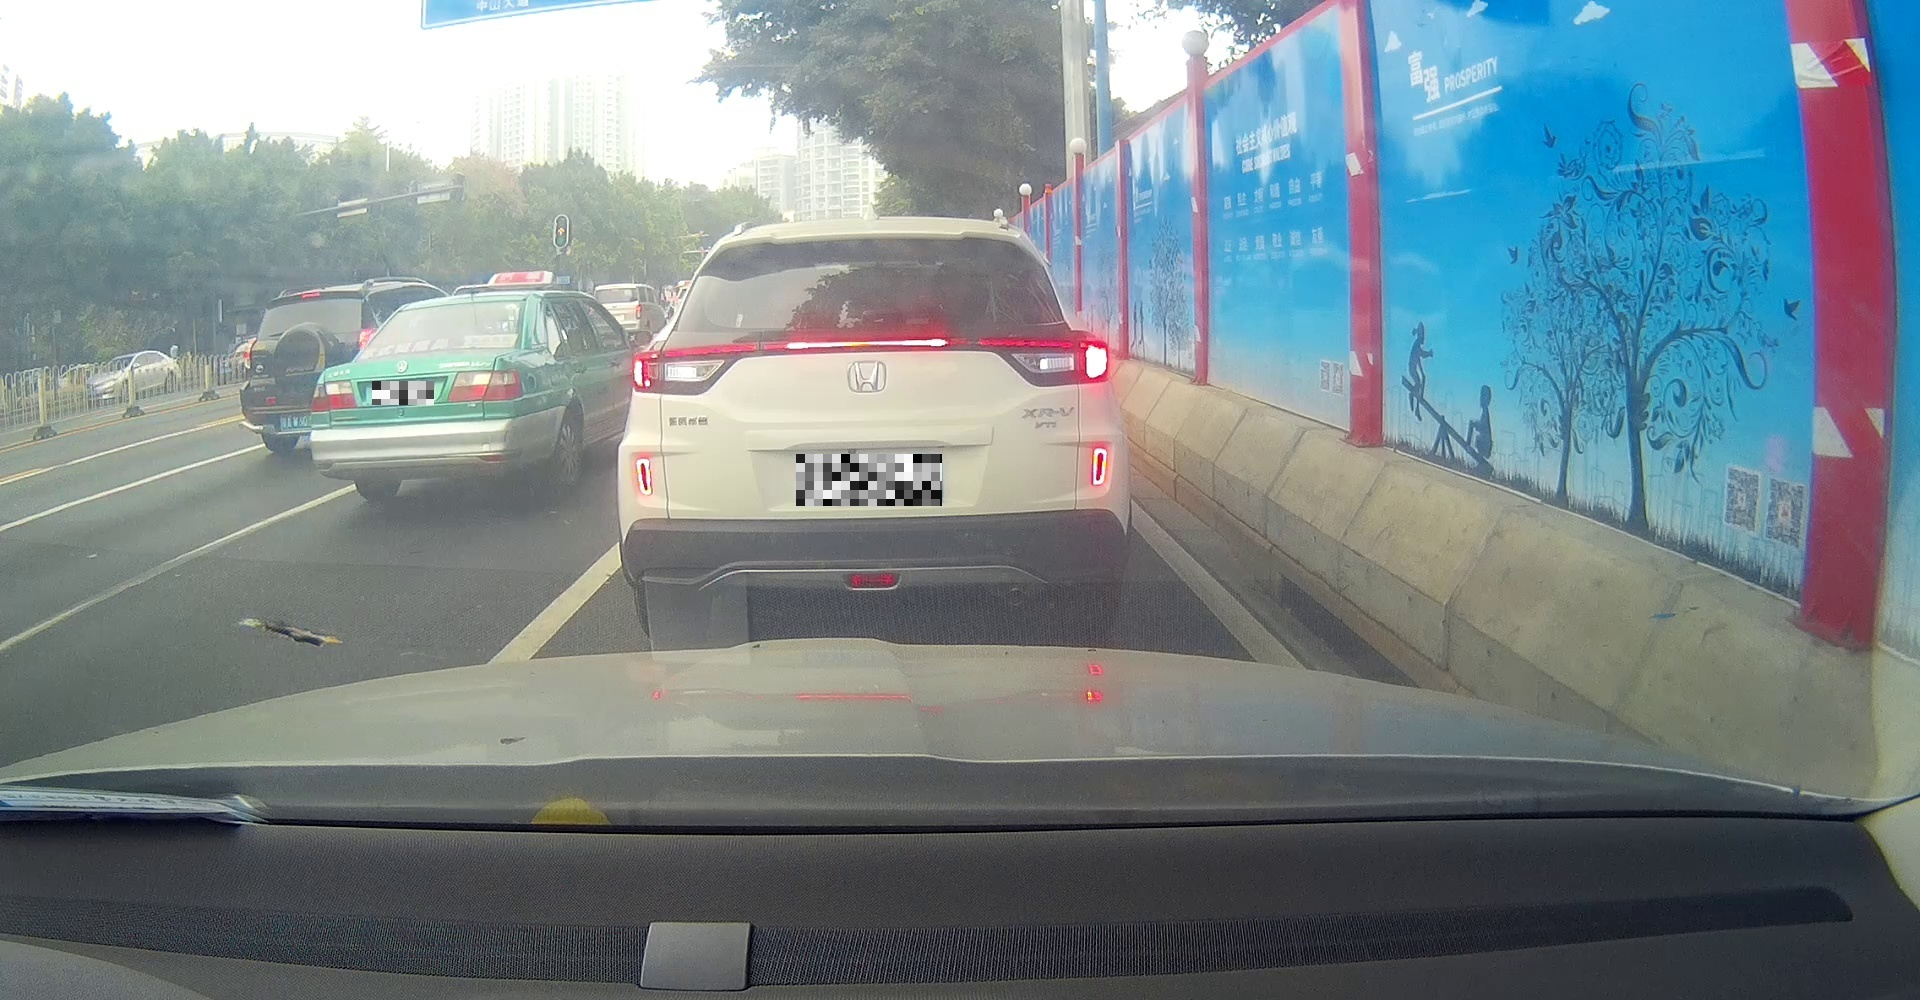L_light: (630, 341, 758, 395), (311, 379, 357, 412)
R_light: (978, 329, 1110, 388), (446, 368, 524, 404)
T_light: (786, 338, 947, 350), (438, 306, 462, 313)
day-brake: (617, 218, 1130, 641)
day-no: (309, 289, 533, 501)
plate_1: (372, 381, 434, 405)
plate_2: (796, 454, 942, 506)
